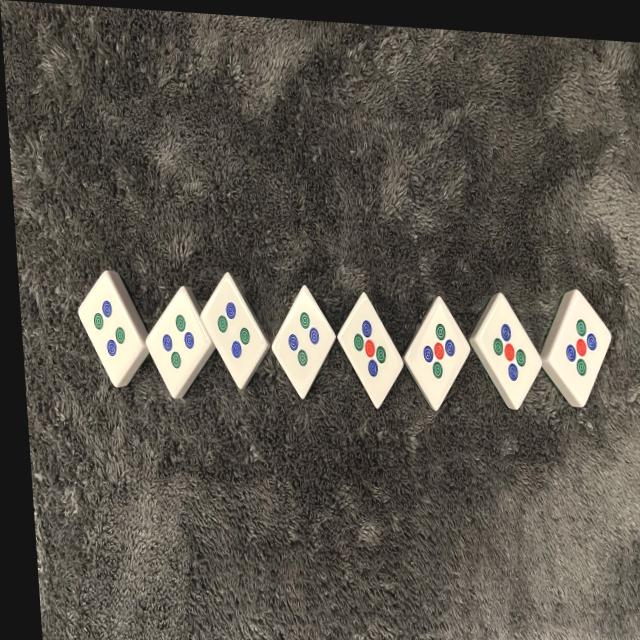t4: (197, 273, 271, 392), (74, 269, 146, 391), (143, 285, 218, 400), (267, 286, 342, 401)
t5: (545, 288, 619, 410), (401, 296, 477, 413), (335, 292, 409, 411), (474, 292, 547, 412)
